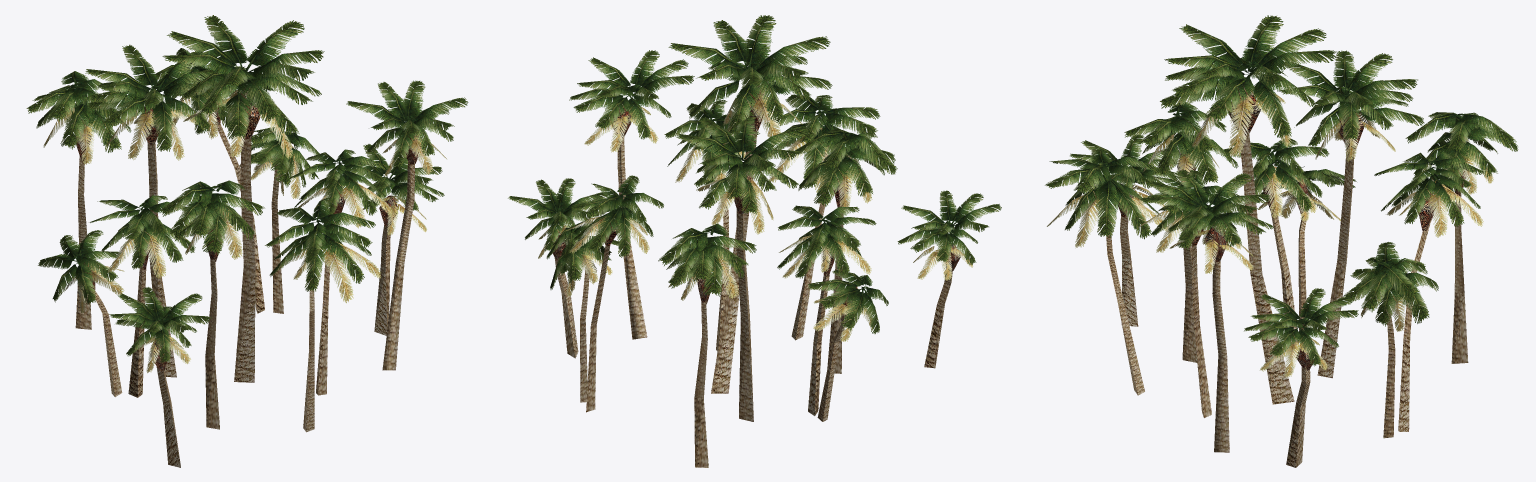
File: trees_palm_01.dae
3 views of the same model, side by side, from view 1: azimuth 30°, elevation 25°; view 2: azimuth 150°, elevation 25°; view 3: azimuth 270°, elevation 25° (orthographic). The views are drawn at different scales.
Parts seen in each view (by area): view 1: Object109_Pivot; view 2: Object109_Pivot; view 3: Object109_Pivot.
Boxes of the visible parts, x1,y1,x2,y2 form: Object109_Pivot: (26, 15, 468, 467); Object109_Pivot: (508, 15, 1001, 467); Object109_Pivot: (1045, 15, 1518, 467).
Size of the model in its own units: 9.09 by 7.25 by 9.2.
